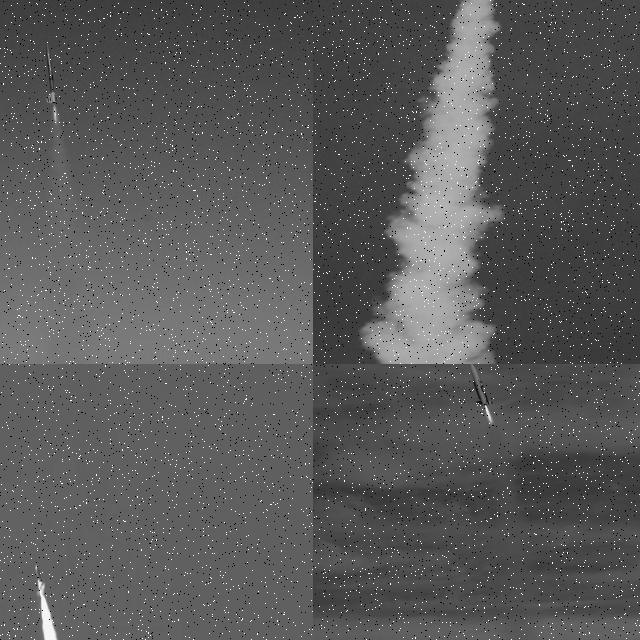Rocket: (468, 364, 495, 405), (45, 43, 60, 105), (35, 563, 47, 594)
